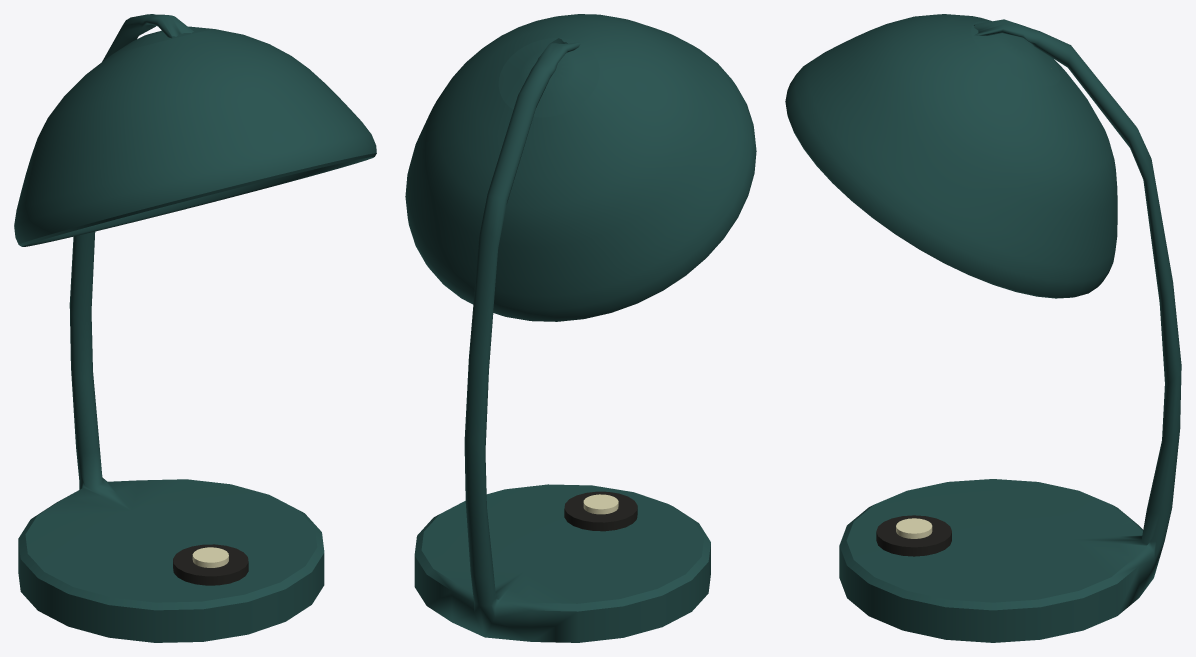
The model's file is IM_LampDesk.fbx.
3 renders of one model, left to right at view 1: azimuth 30°, elevation 25°; view 2: azimuth 150°, elevation 25°; view 3: azimuth 270°, elevation 25°, orthographic. The views are drawn at different scales.
Parts seen in each view (by area): view 1: IM_LampDesk; view 2: IM_LampDesk; view 3: IM_LampDesk.
Boxes of the visible parts, box(x1,y1,x2,y2) form: IM_LampDesk: box(14, 14, 376, 642); IM_LampDesk: box(405, 14, 756, 642); IM_LampDesk: box(785, 14, 1181, 642).
Size of the model in its own units: 38.83 by 64.22 by 41.4.
